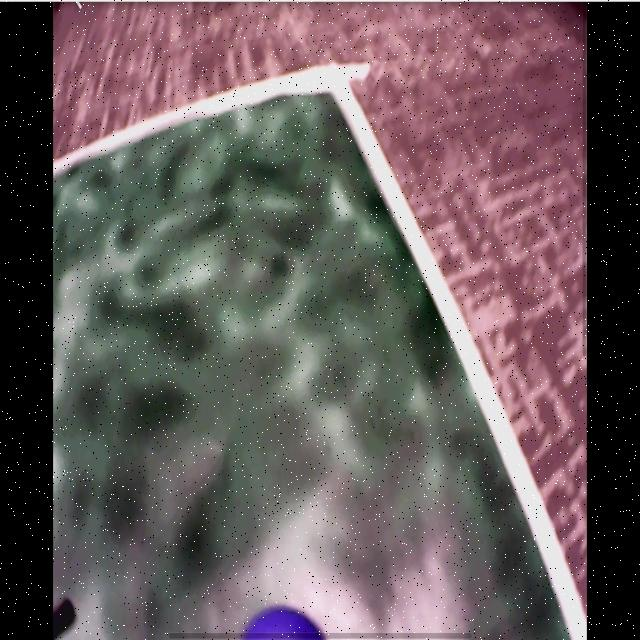ball: (241, 606, 320, 640)
